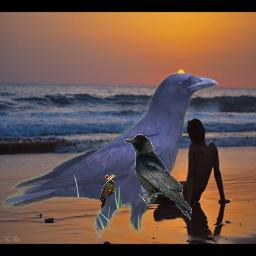Crow: (1, 71, 218, 247), (123, 134, 192, 220)
Woodpecker: (99, 173, 118, 210)
